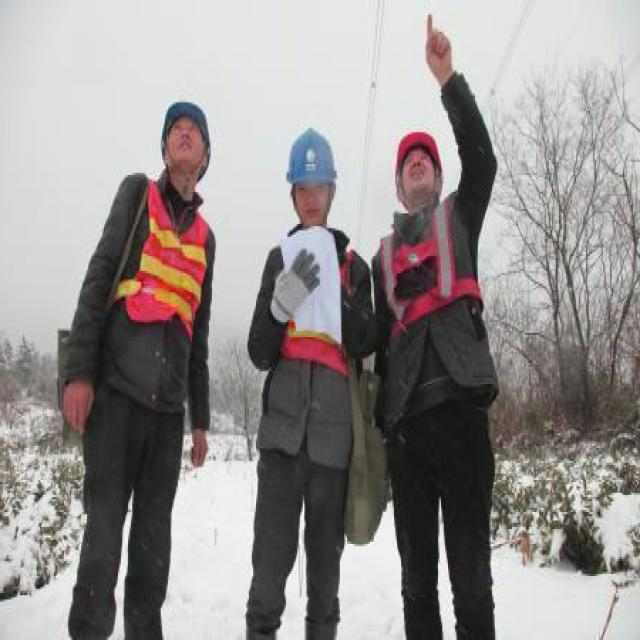face_nomask: (168, 113, 205, 164), (399, 145, 434, 198), (293, 184, 329, 226)
hand_glove: (269, 245, 324, 331)
hand_noglove: (415, 17, 458, 77), (60, 373, 94, 433), (185, 429, 209, 478)
head_helmet: (394, 122, 444, 192), (156, 94, 215, 153), (284, 126, 340, 185)
person: (374, 15, 509, 640), (59, 96, 214, 640), (246, 130, 373, 632)
vest: (260, 232, 364, 406), (108, 181, 213, 350), (377, 203, 469, 358)
